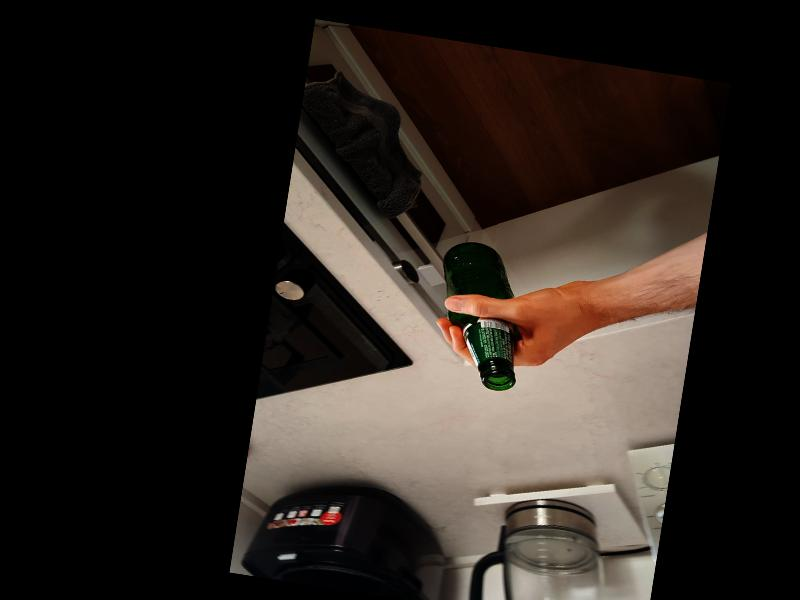Beer: (424, 236, 536, 392)
